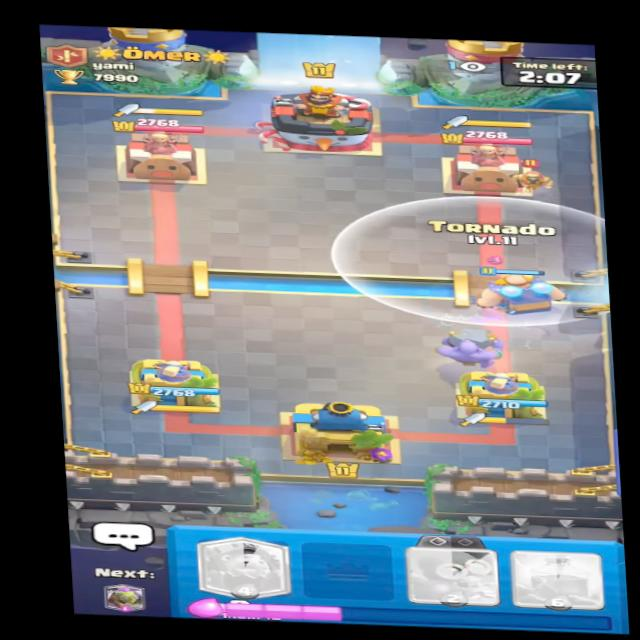wizard: (508, 159, 558, 200)
